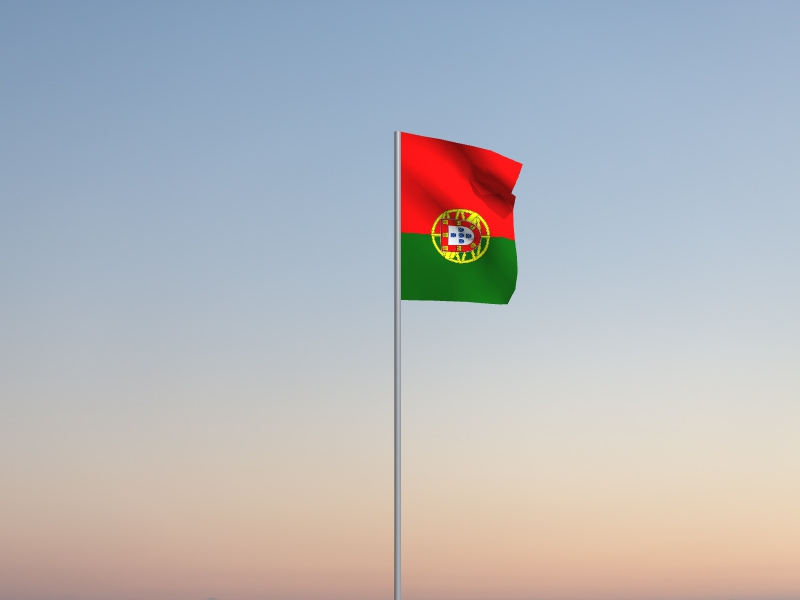pt: (401, 132, 524, 307)
